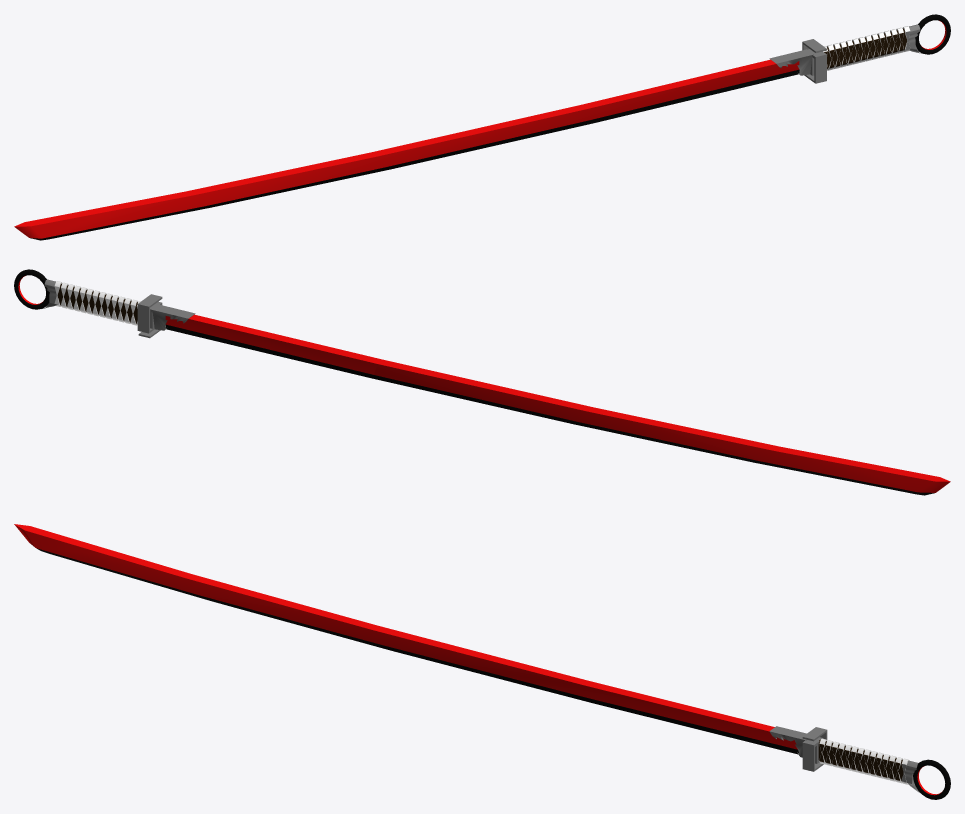
File: Katana.fbx
The picture shows the model from 3 angles, top to bottom: view 1: azimuth 30°, elevation 25°; view 2: azimuth 150°, elevation 25°; view 3: azimuth 330°, elevation 25°; orthographic projection.
Visible parts, largest first — view 1: 对象002; view 2: 对象002; view 3: 对象002.
Boxes of the visible parts, bbox=[...] form: 对象002: bbox=[14, 14, 950, 240]; 对象002: bbox=[14, 269, 950, 495]; 对象002: bbox=[14, 524, 950, 799].
Bounding box in the file's own units: 66.14 × 3.46 × 1.65.
